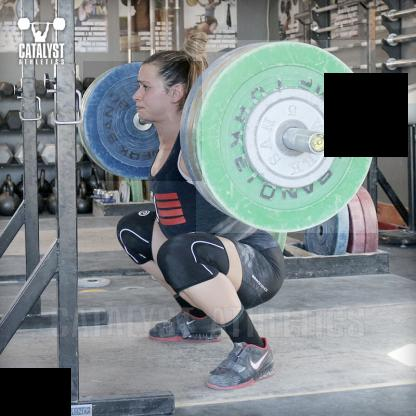barbell: (197, 41, 377, 234), (84, 63, 203, 183)
